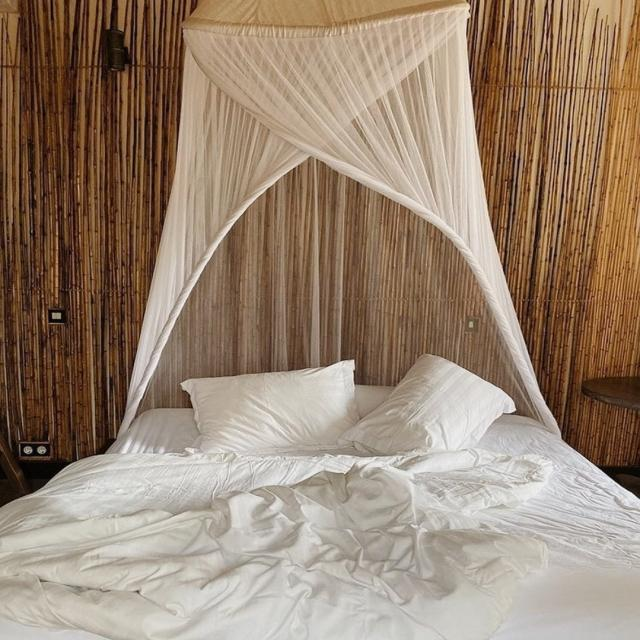bed: (32, 350, 616, 640)
